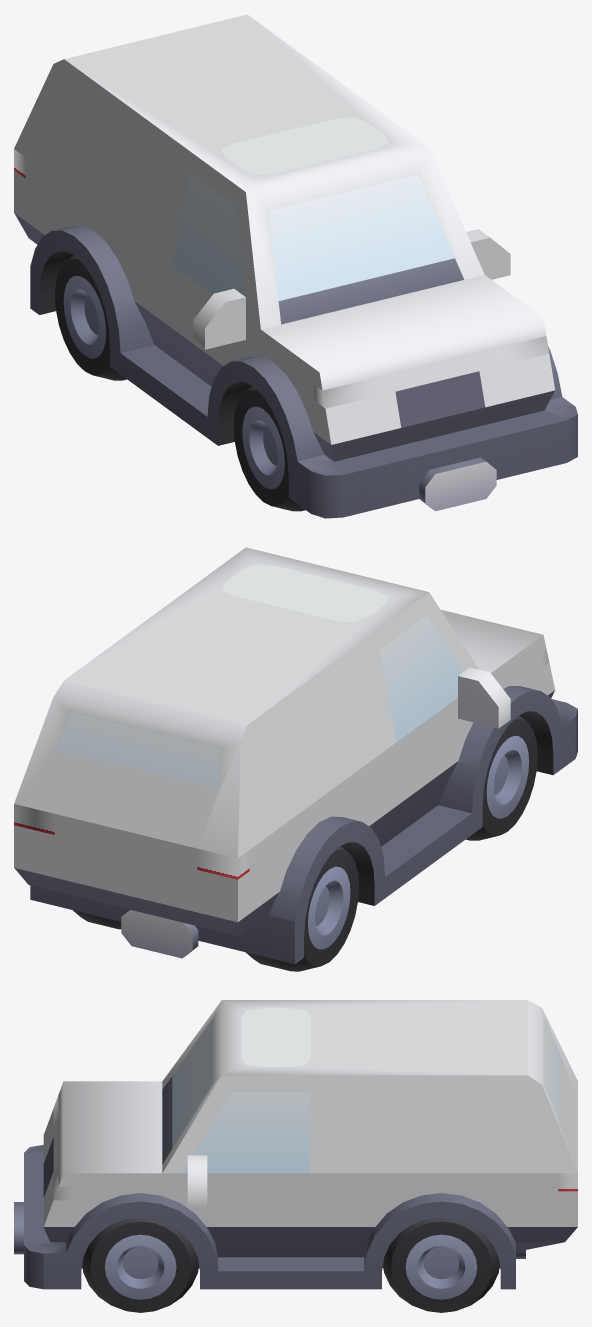
The model's file is waymo.glb.
The picture shows the model from 3 angles, top to bottom: view 1: azimuth 30°, elevation 25°; view 2: azimuth 150°, elevation 25°; view 3: azimuth 270°, elevation 25°; orthographic projection. The views are drawn at different scales.
Parts seen in each view (by area): view 1: body, wheel-front-right, wheel-back-right; view 2: body, wheel-back-right, wheel-front-right; view 3: body, wheel-back-left, wheel-front-left.
Boxes of the visible parts, x1,y1,x2,y2 form: body: (14, 14, 577, 518); wheel-front-right: (233, 386, 305, 511); wheel-back-right: (55, 255, 126, 380); body: (14, 547, 577, 964); wheel-back-right: (246, 846, 358, 971); wheel-front-right: (466, 715, 537, 840); body: (14, 1000, 577, 1289); wheel-back-left: (383, 1217, 499, 1312); wheel-front-left: (82, 1217, 198, 1312).
Bounding box in the file's own units: 1.5 × 1.3 × 2.85.
Materials: 1 (1 with a texture image).
